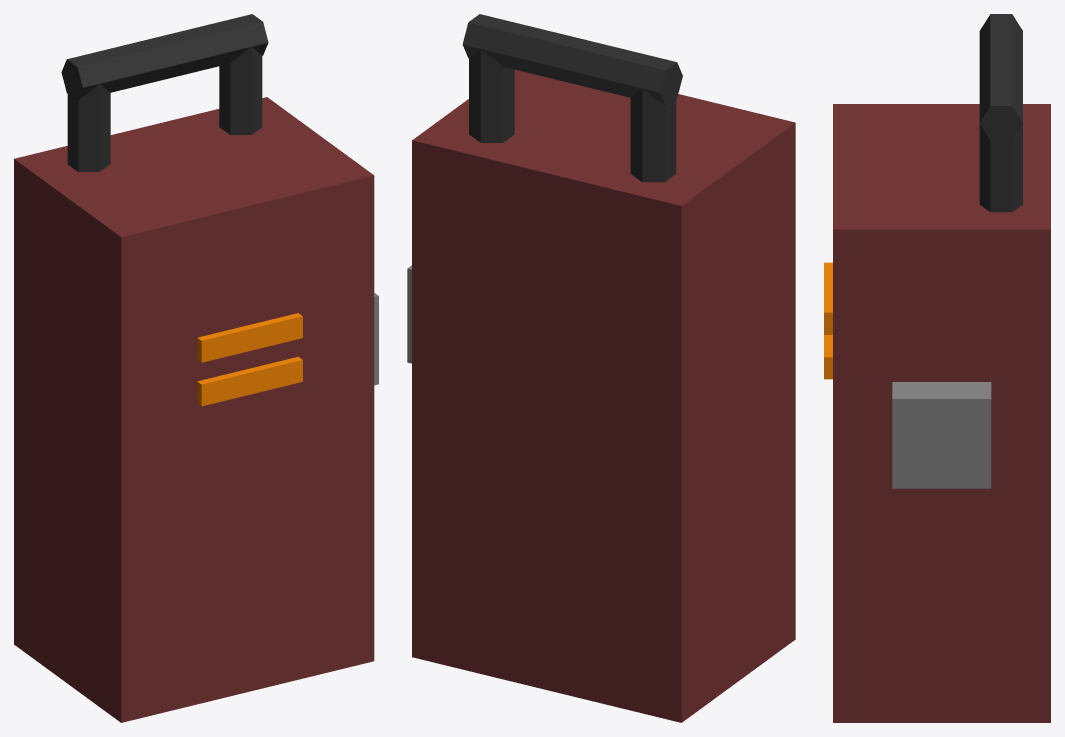
The model's file is ce_ammo2_flame_prom_a.obj.
3 views of the same model, side by side, from view 1: azimuth 30°, elevation 25°; view 2: azimuth 150°, elevation 25°; view 3: azimuth 270°, elevation 25° (orthographic). The views are drawn at different scales.
Visible parts, largest first — view 1: ce_ammo2_flame_prom_a_0, ce_ammo2_flame_prom_a_6, ce_ammo2_flame_prom_a_5, ce_ammo2_flame_prom_a_4, ce_ammo2_flame_prom_a_2, ce_ammo2_flame_prom_a_1; view 2: ce_ammo2_flame_prom_a_0, ce_ammo2_flame_prom_a_6, ce_ammo2_flame_prom_a_5, ce_ammo2_flame_prom_a_4; view 3: ce_ammo2_flame_prom_a_0, ce_ammo2_flame_prom_a_3, ce_ammo2_flame_prom_a_6, ce_ammo2_flame_prom_a_4, ce_ammo2_flame_prom_a_2, ce_ammo2_flame_prom_a_1.
Part boxes in pixels (left/top/right/bottom): ce_ammo2_flame_prom_a_0: left=14, top=97, right=374, bottom=722; ce_ammo2_flame_prom_a_6: left=61, top=14, right=268, bottom=100; ce_ammo2_flame_prom_a_5: left=67, top=84, right=110, bottom=171; ce_ammo2_flame_prom_a_4: left=219, top=47, right=262, bottom=134; ce_ammo2_flame_prom_a_2: left=197, top=313, right=302, bottom=362; ce_ammo2_flame_prom_a_1: left=197, top=356, right=302, bottom=406; ce_ammo2_flame_prom_a_0: left=412, top=69, right=795, bottom=722; ce_ammo2_flame_prom_a_6: left=462, top=14, right=682, bottom=106; ce_ammo2_flame_prom_a_5: left=630, top=88, right=676, bottom=182; ce_ammo2_flame_prom_a_4: left=469, top=49, right=514, bottom=142; ce_ammo2_flame_prom_a_0: left=833, top=104, right=1050, bottom=722; ce_ammo2_flame_prom_a_3: left=892, top=382, right=991, bottom=488; ce_ammo2_flame_prom_a_6: left=979, top=14, right=1022, bottom=140; ce_ammo2_flame_prom_a_4: left=979, top=124, right=1022, bottom=212; ce_ammo2_flame_prom_a_2: left=824, top=262, right=832, bottom=334; ce_ammo2_flame_prom_a_1: left=824, top=335, right=832, bottom=379.
Size of the model in its own units: 0.34 by 0.6691 by 0.229.
